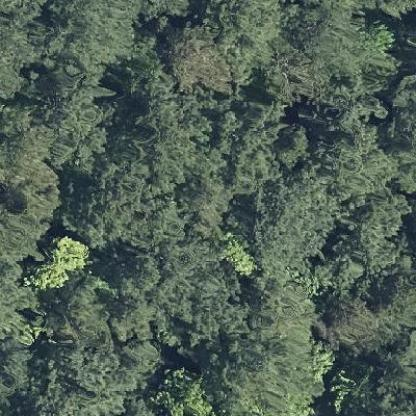tree-top: (0, 116, 60, 265), (161, 24, 234, 94), (21, 231, 95, 290), (151, 366, 217, 415), (215, 232, 259, 277), (274, 121, 313, 164)
